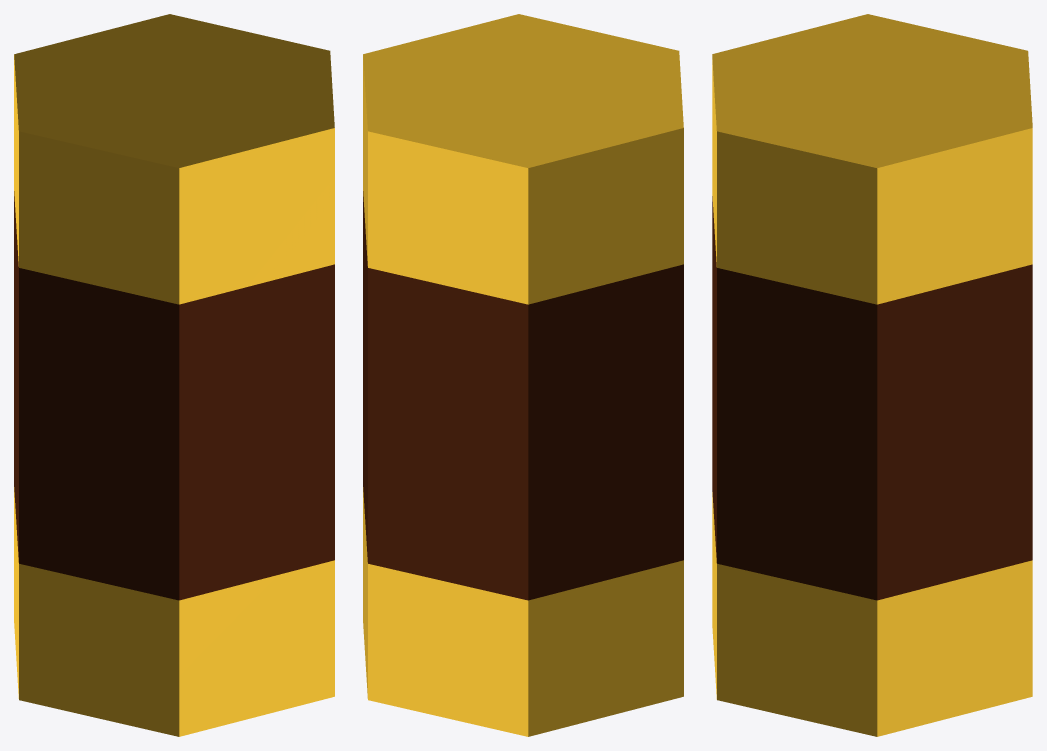
Rendered from Chocolate Bar 1.fbx.
3 views of the same model, side by side, from view 1: azimuth 30°, elevation 25°; view 2: azimuth 150°, elevation 25°; view 3: azimuth 270°, elevation 25° (orthographic).
Visible parts, largest first — view 1: Node 0; view 2: Node 0; view 3: Node 0.
Boxes of the visible parts, bbox=[...] form: Node 0: bbox=[14, 14, 334, 736]; Node 0: bbox=[363, 14, 683, 736]; Node 0: bbox=[712, 14, 1032, 736].
Bounding box in the file's own units: 0.1174 × 0.2298 × 0.1336.
